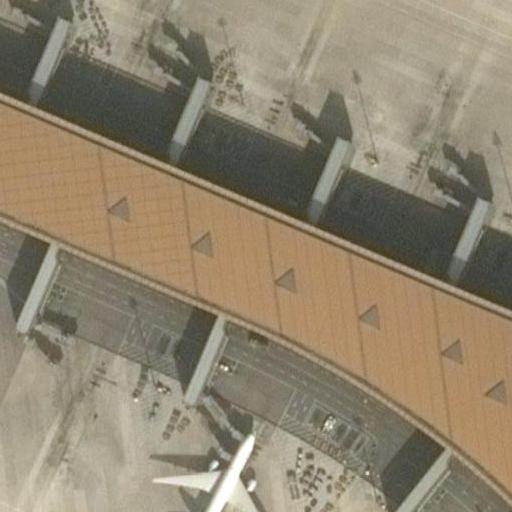Aircraft: (154, 421, 276, 512)
